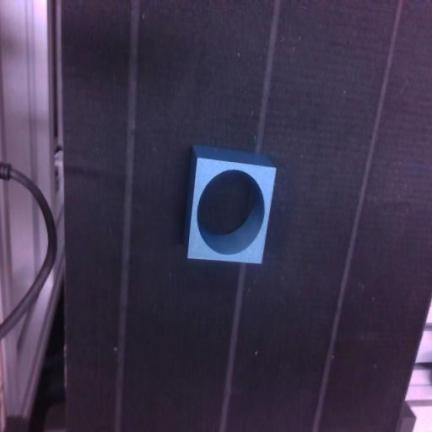square: (187, 146, 275, 263)
